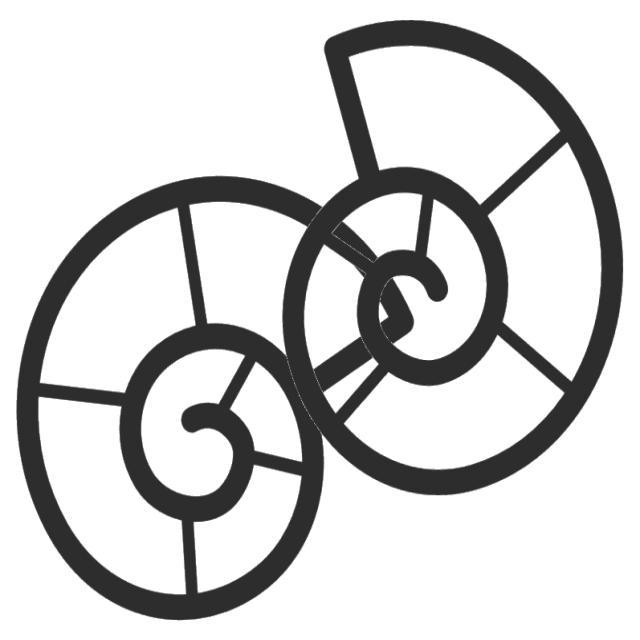fossil: (10, 159, 422, 630), (270, 11, 632, 502)
